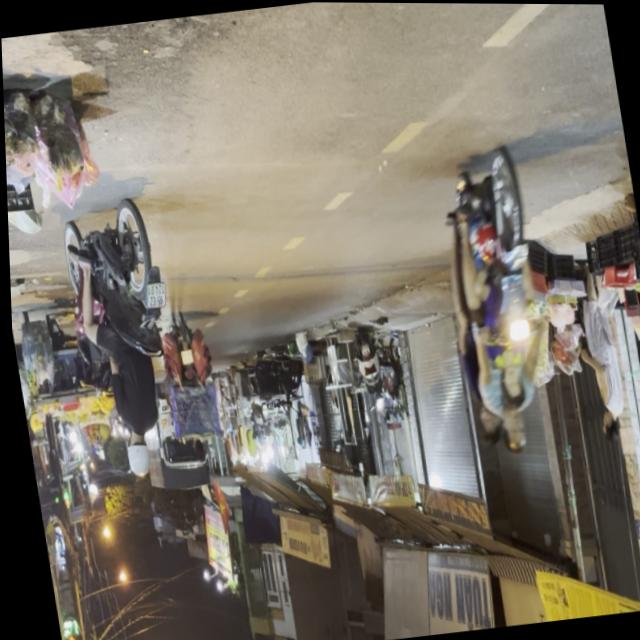helmet: (120, 432, 150, 478)
licenseplate: (426, 140, 570, 461), (53, 194, 190, 485), (152, 306, 226, 468)
motorcyclist: (494, 360, 527, 411), (472, 398, 504, 449), (496, 403, 528, 453), (188, 439, 204, 464)
nohelmet: (139, 282, 164, 309)
